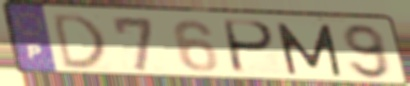6: (170, 18, 220, 73)
7: (109, 14, 159, 74)
9: (340, 22, 392, 82)
D: (50, 11, 108, 71)
M: (273, 21, 345, 78)
P: (223, 18, 279, 77)
